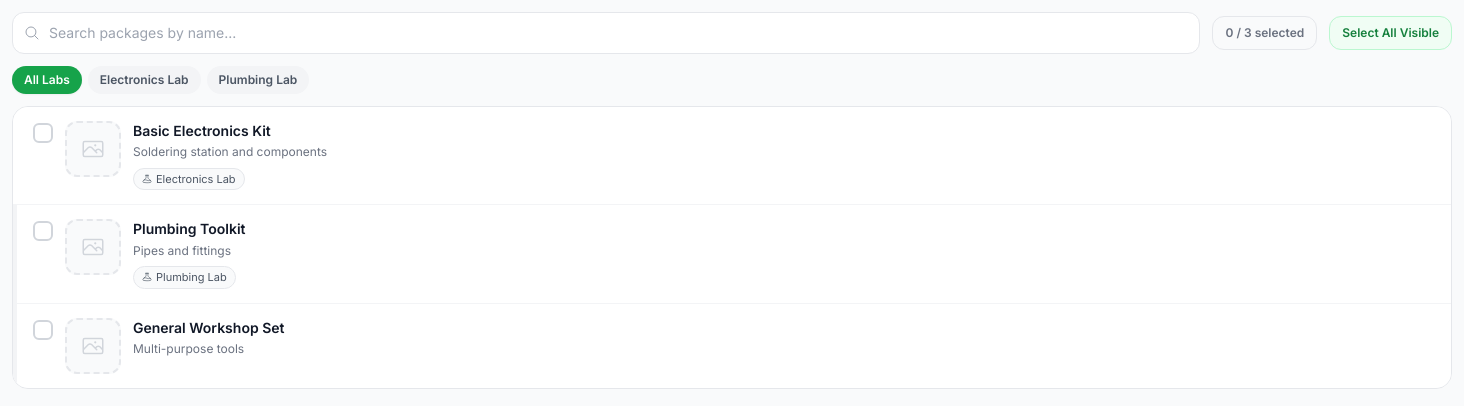
Scenario: PackageSelector Component › Rendering › shows empty state when no packages match filter
The image size is (1464, 406).
Type "xyznotexistent" into the field with placeholder "Search packages by name..." at (606, 33), box [12,12,1200,54]
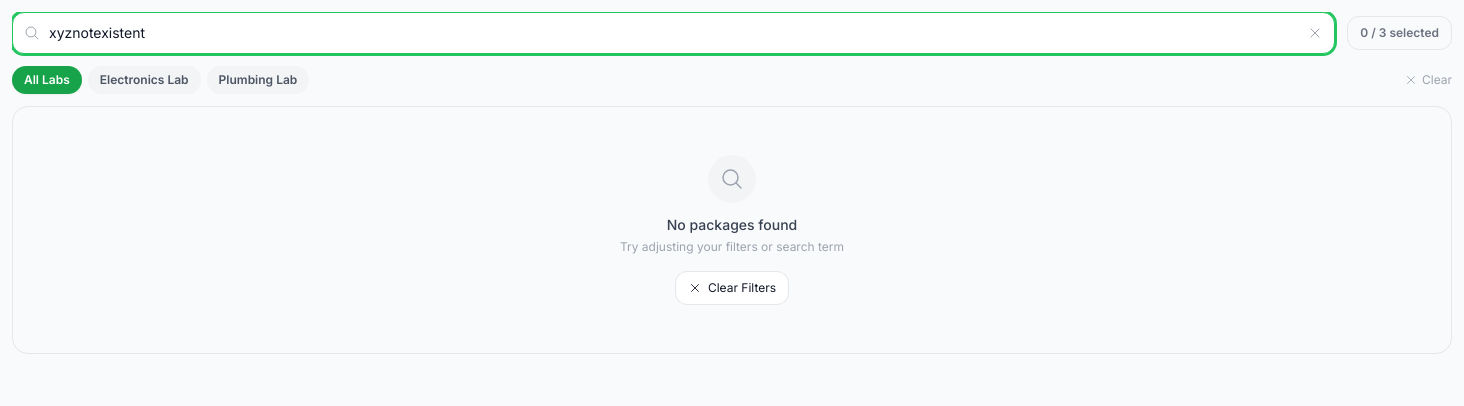
expect the text "No packages found" is shown: met, box [667,215,797,235]
